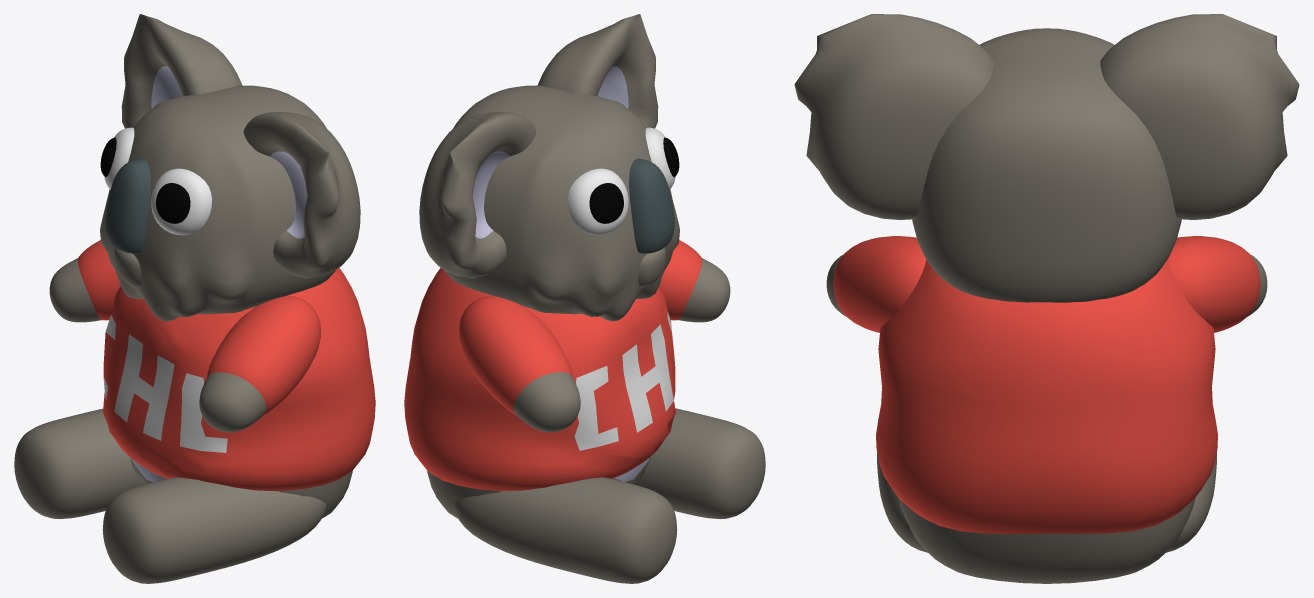
Rendered from Koala_2.fbx.
The picture shows the model from 3 angles, left to right: view 1: azimuth 30°, elevation 25°; view 2: azimuth 150°, elevation 25°; view 3: azimuth 270°, elevation 25°; orthographic projection. The views are drawn at different scales.
Visible parts, largest first — view 1: Cube.020; view 2: Cube.020; view 3: Cube.020.
Boxes of the visible parts, x1,y1,x2,y2 form: Cube.020: [14, 14, 375, 583]; Cube.020: [404, 14, 765, 583]; Cube.020: [794, 14, 1299, 583].
Size of the model in its own units: 1017 by 1547 by 1315.
